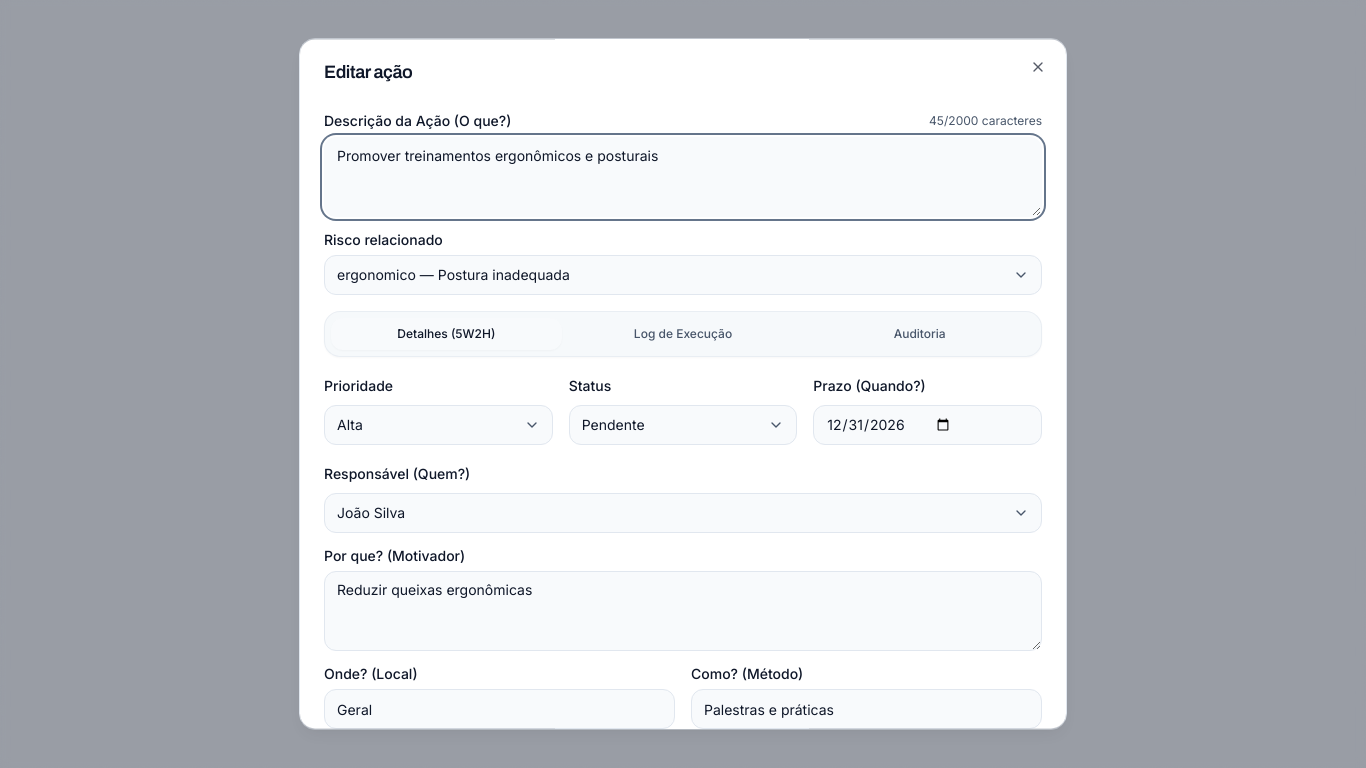
Test: AcaoDialog › ETAPA M1 — Descrição da Ação Editável (6.1 a-f) › 6.1b: aceita digitação e atualiza estado e contador de caracteres
Replace the text in the text box labelled "Descrição da Ação (O que?)" with "Revisar postos de trabalho" at (683, 177), box [324,137,1042,217]
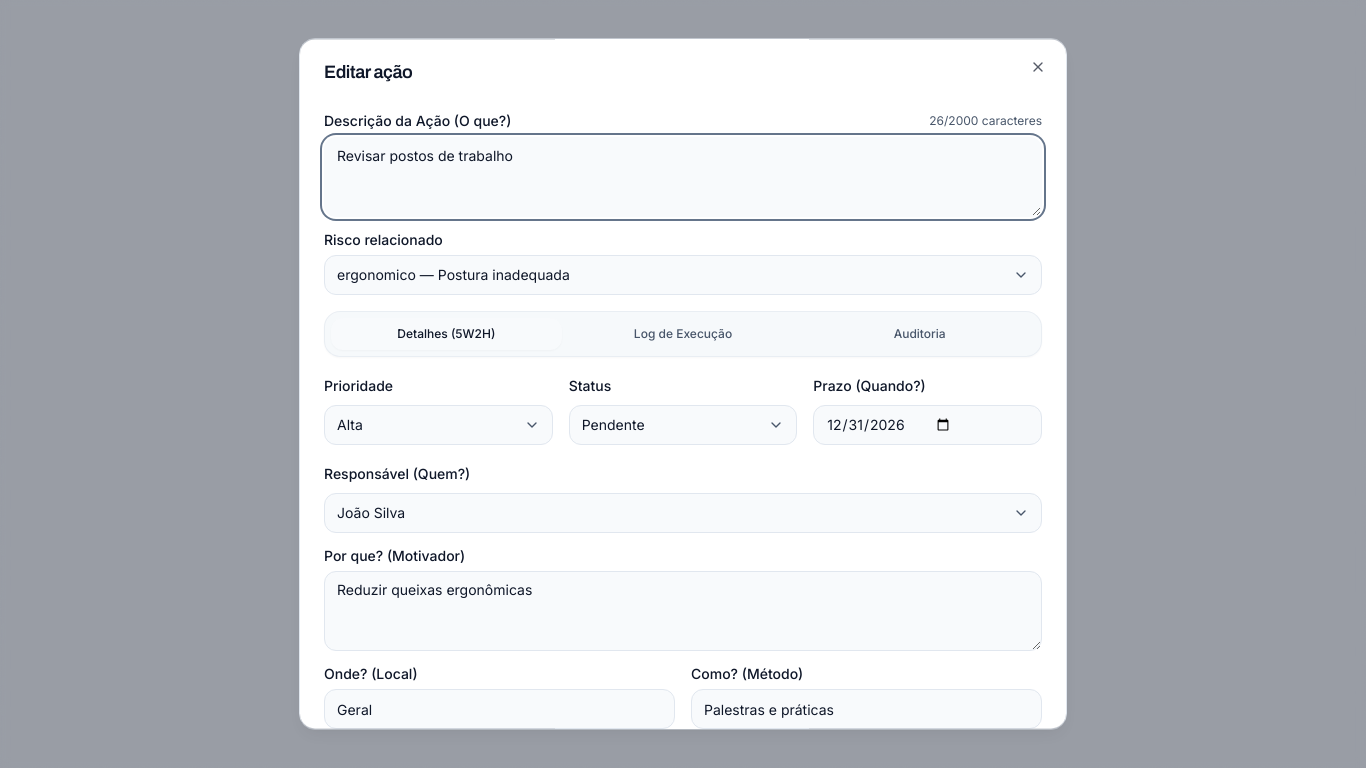
Expected: the text with test id "edit-acao-char-count" reads "26/2000 caracteres", [929,113,1042,129]
